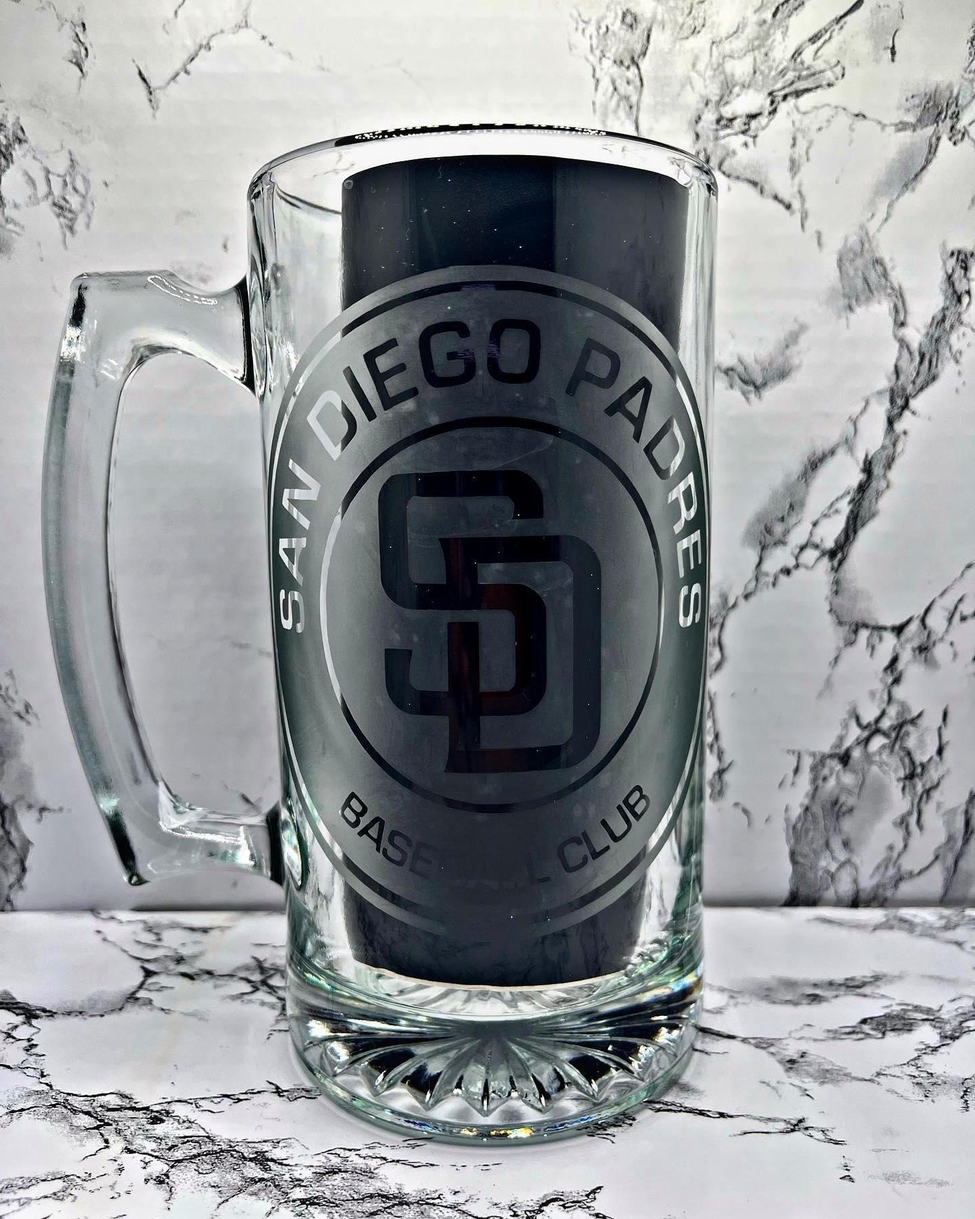glass-mug: (39, 108, 754, 1165)
